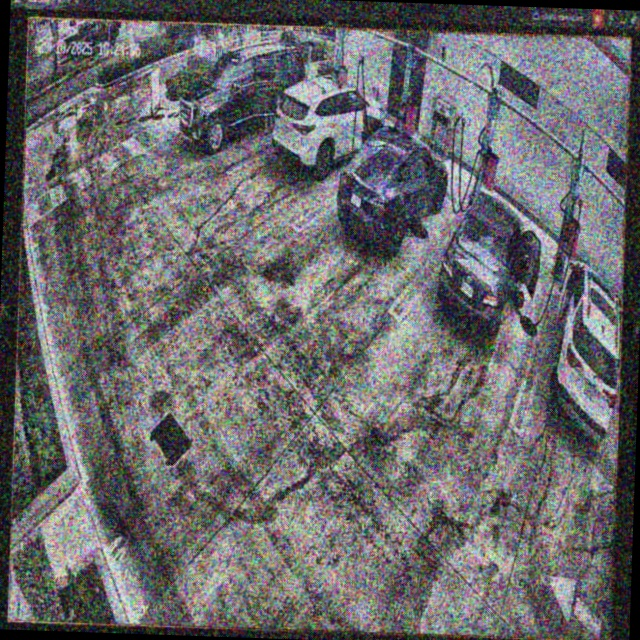Car: (335, 123, 451, 256), (439, 192, 539, 329), (272, 75, 385, 175)
